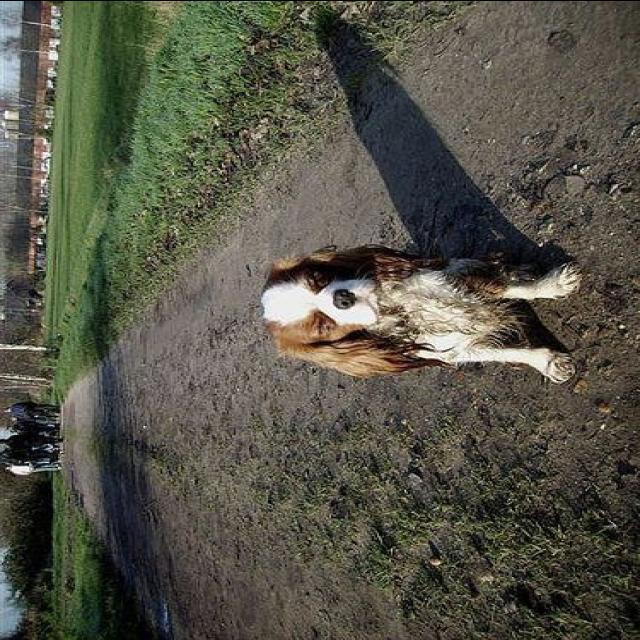blenheim_spaniel: (263, 247, 582, 383)
